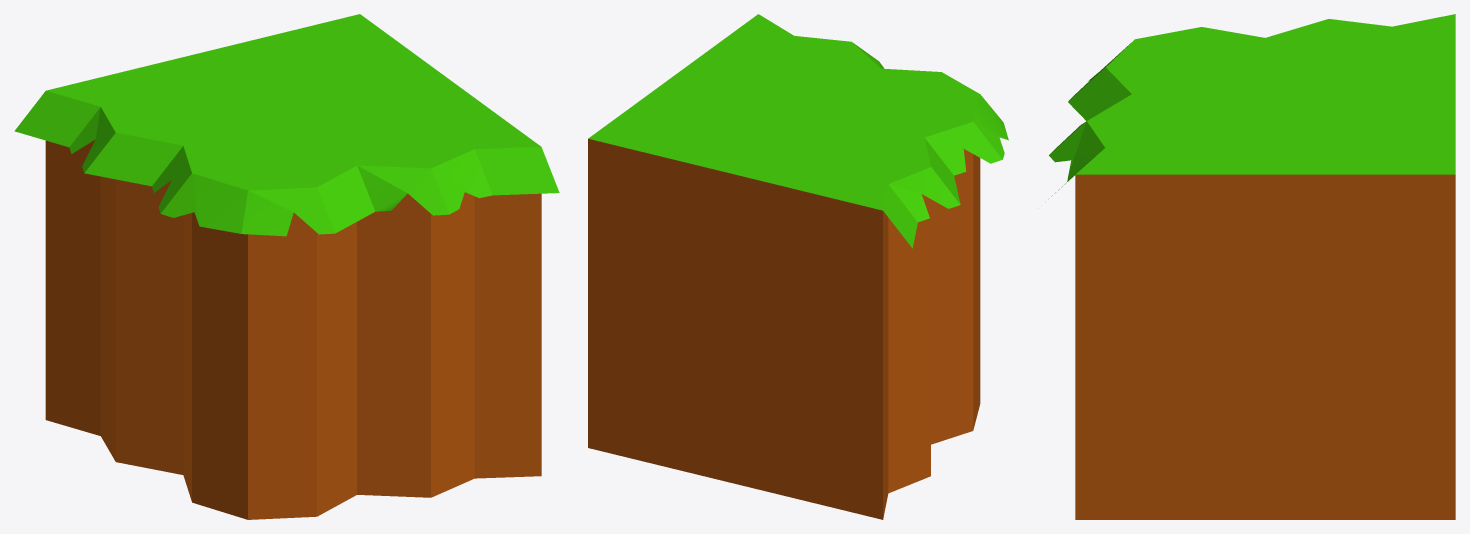
File: dirt2side.obj
3 renders of one model, left to right at view 1: azimuth 30°, elevation 25°; view 2: azimuth 150°, elevation 25°; view 3: azimuth 270°, elevation 25°, orthographic. The views are drawn at different scales.
Visible parts, largest first — view 1: hillside.001; view 2: hillside.001; view 3: hillside.001.
Part boxes in pixels (x1,y1,x2,y2): hillside.001: [14, 14, 559, 519]; hillside.001: [588, 14, 1008, 519]; hillside.001: [1049, 14, 1455, 519].
Size of the model in its own units: 1.1 by 1 by 1.1.
